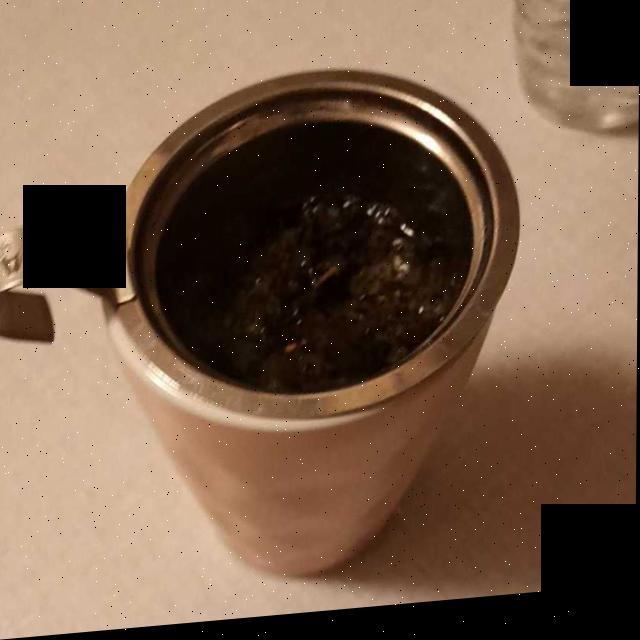tea: (170, 131, 462, 399)
